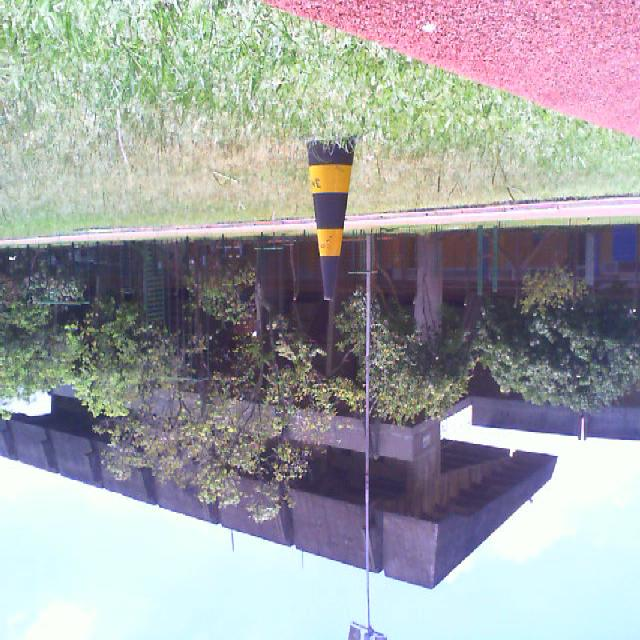cone: (300, 133, 362, 300)
